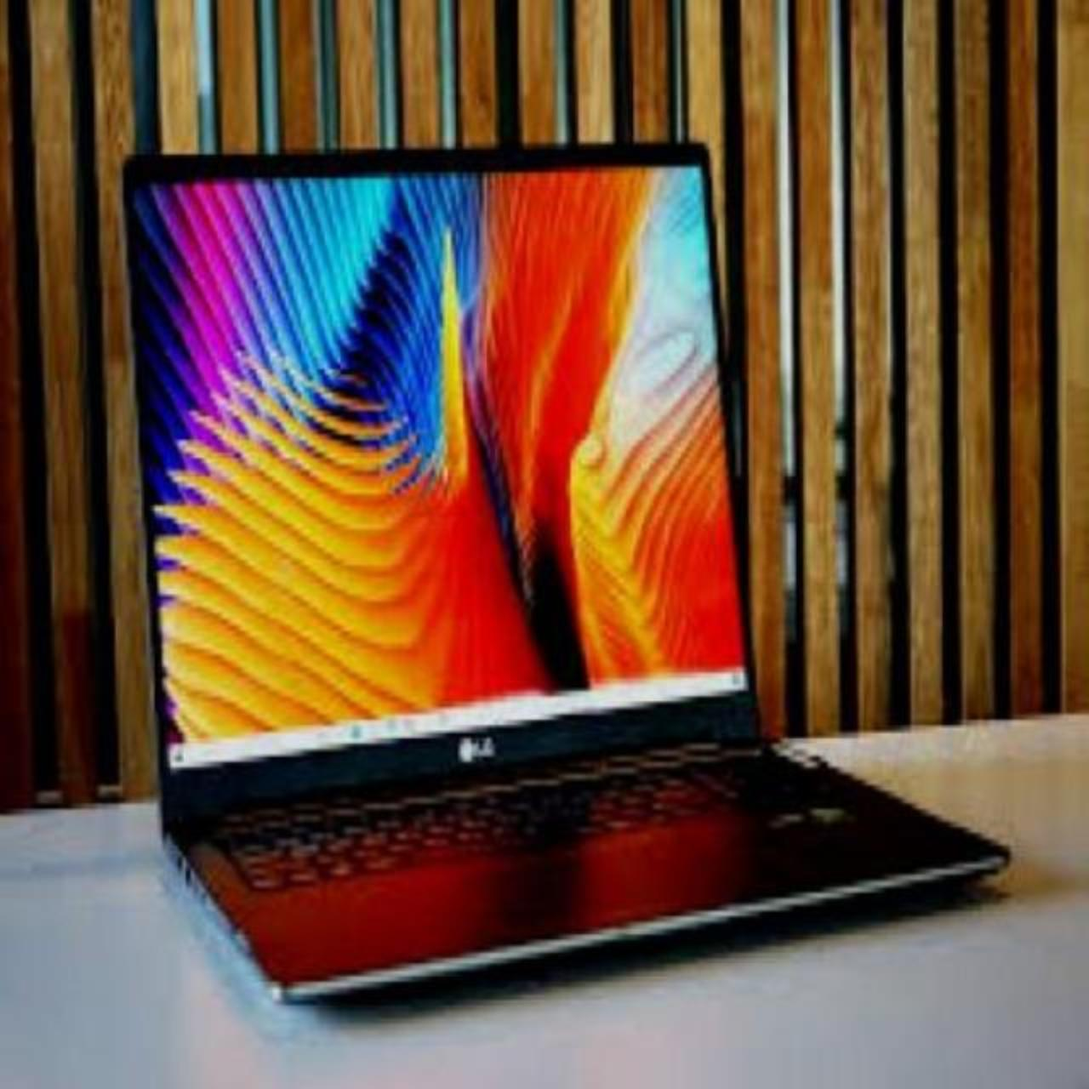laptop: (83, 119, 1033, 1035)
